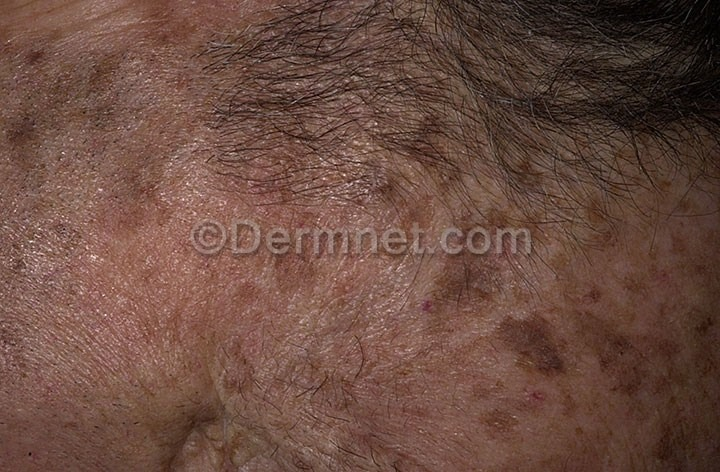Melasma: (165, 261, 716, 472), (1, 16, 475, 220)
